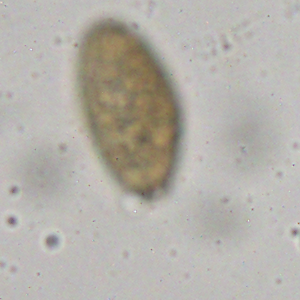Fasciola_hepatica_egg: (76, 17, 185, 202)
